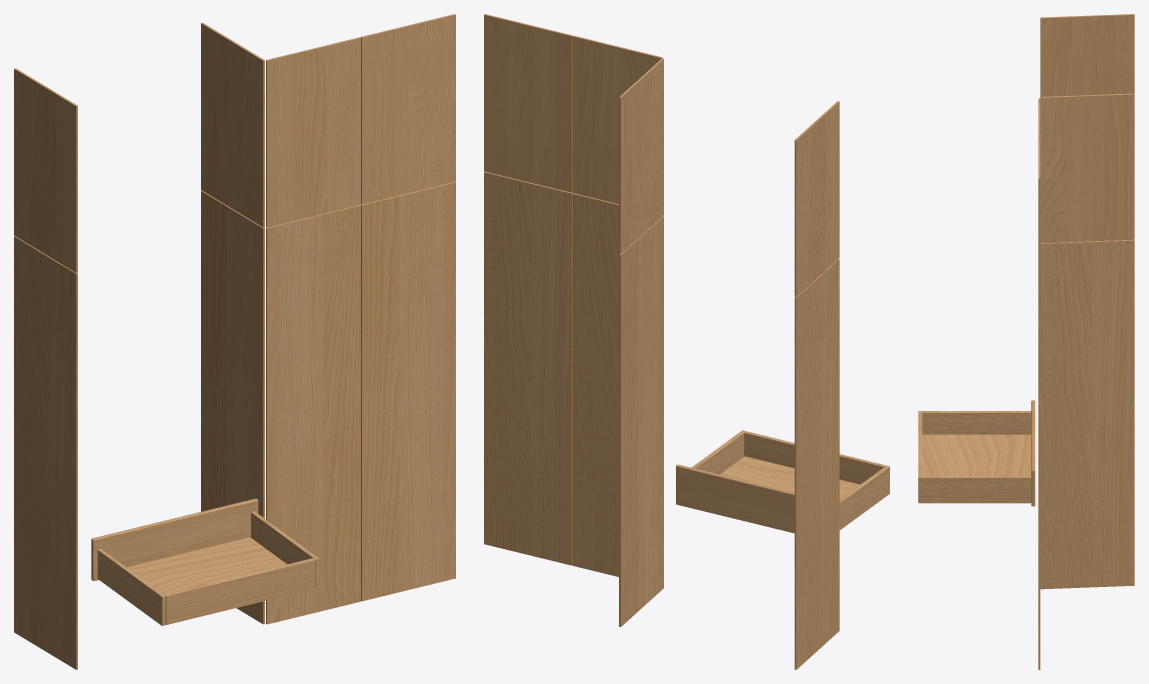
Rendered from lockerViewTwo.gltf.
3 views of the same model, side by side, from view 1: azimuth 30°, elevation 25°; view 2: azimuth 150°, elevation 25°; view 3: azimuth 270°, elevation 25° (orthographic). The views are drawn at different scales.
Visible parts, largest first — view 1: lockerViewTwo; view 2: lockerViewTwo; view 3: lockerViewTwo.
Part boxes in pixels (left/top/right/bottom): lockerViewTwo: left=14, top=14, right=455, bottom=669; lockerViewTwo: left=484, top=14, right=889, bottom=669; lockerViewTwo: left=918, top=14, right=1134, bottom=669.
Bounding box in the file's own units: 1.94 × 2.7 × 1.08.
1 material, 1 textured.
